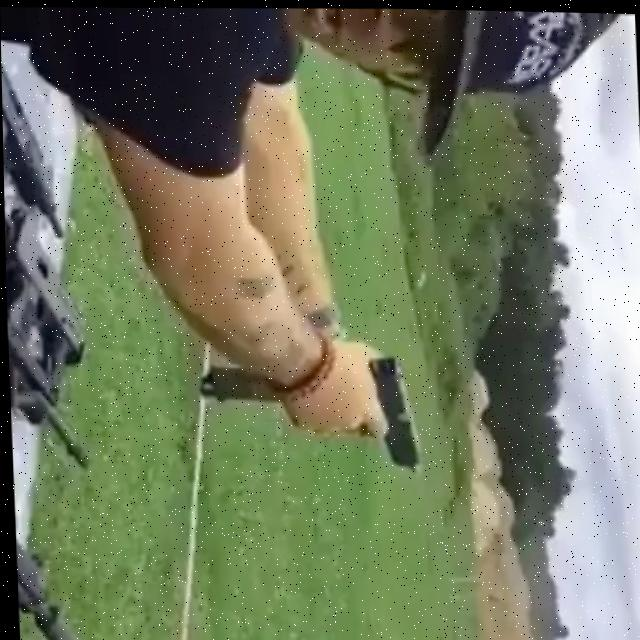firearm: (3, 196, 95, 370), (10, 454, 90, 640), (1, 33, 66, 239)
pistol: (378, 349, 422, 463)
